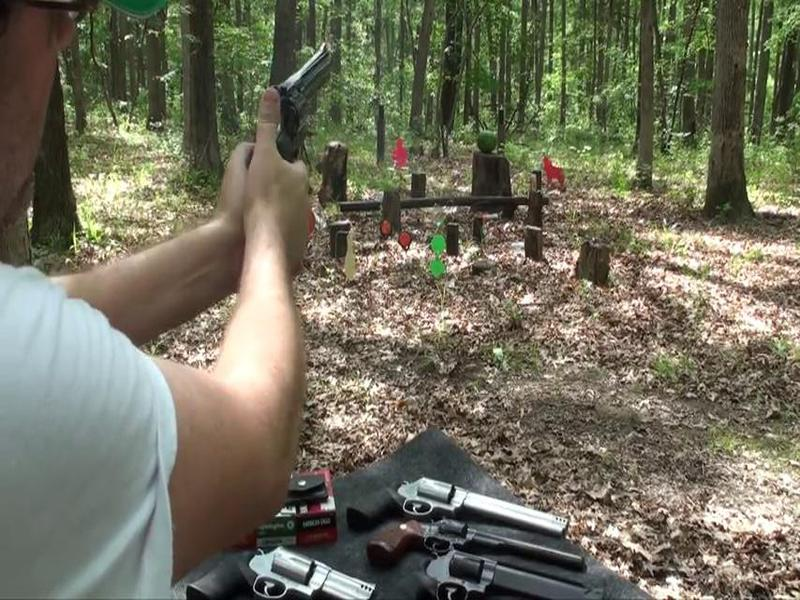Revolver: (261, 23, 340, 189)
